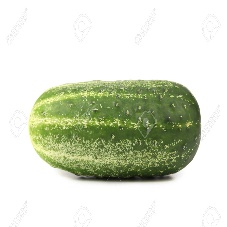cucumber: (29, 81, 201, 180)
